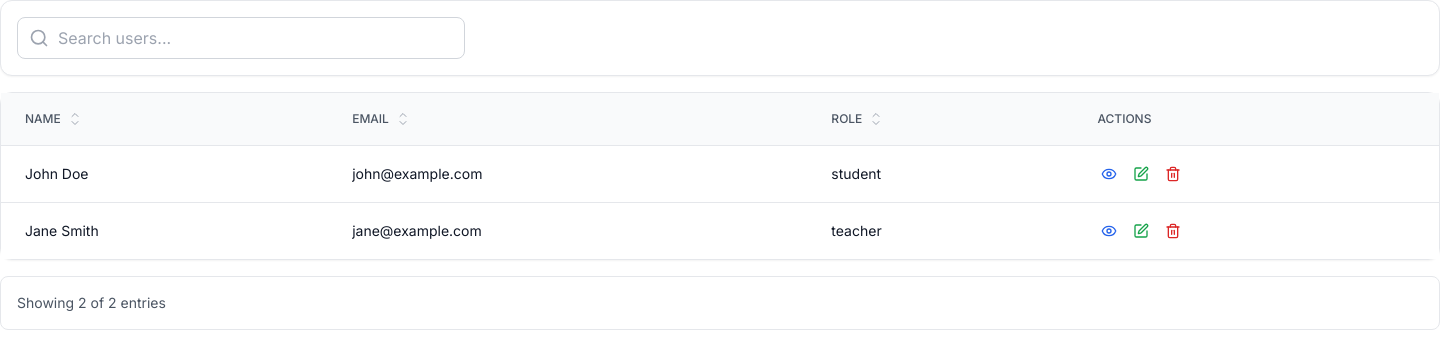
it: DataTable Component › handles search functionality
Type "John" into the field with placeholder "Search users...".
click(241, 38); type("John")  # box [17, 17, 465, 59]
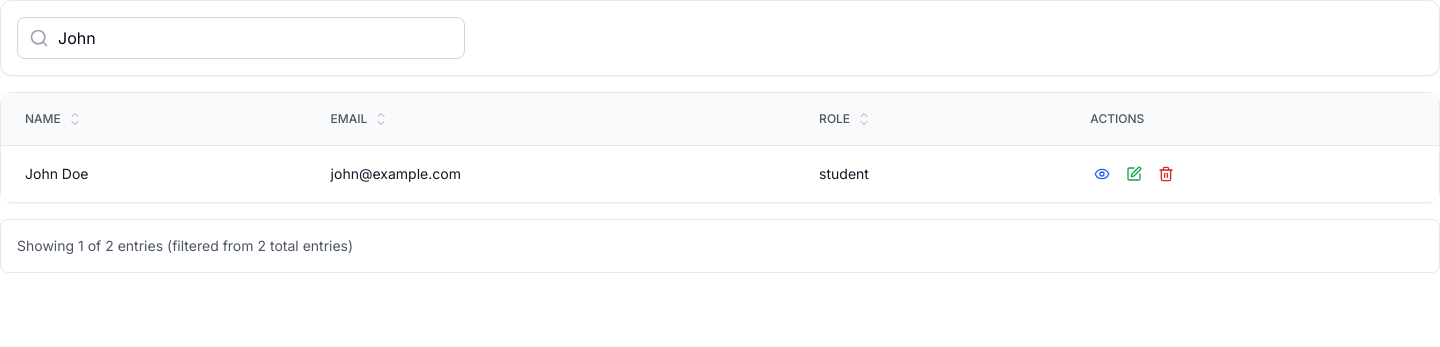
Expected: the text "John Doe" is shown, [1, 146, 307, 202]
Expected: the text "Jane Smith" is gone
